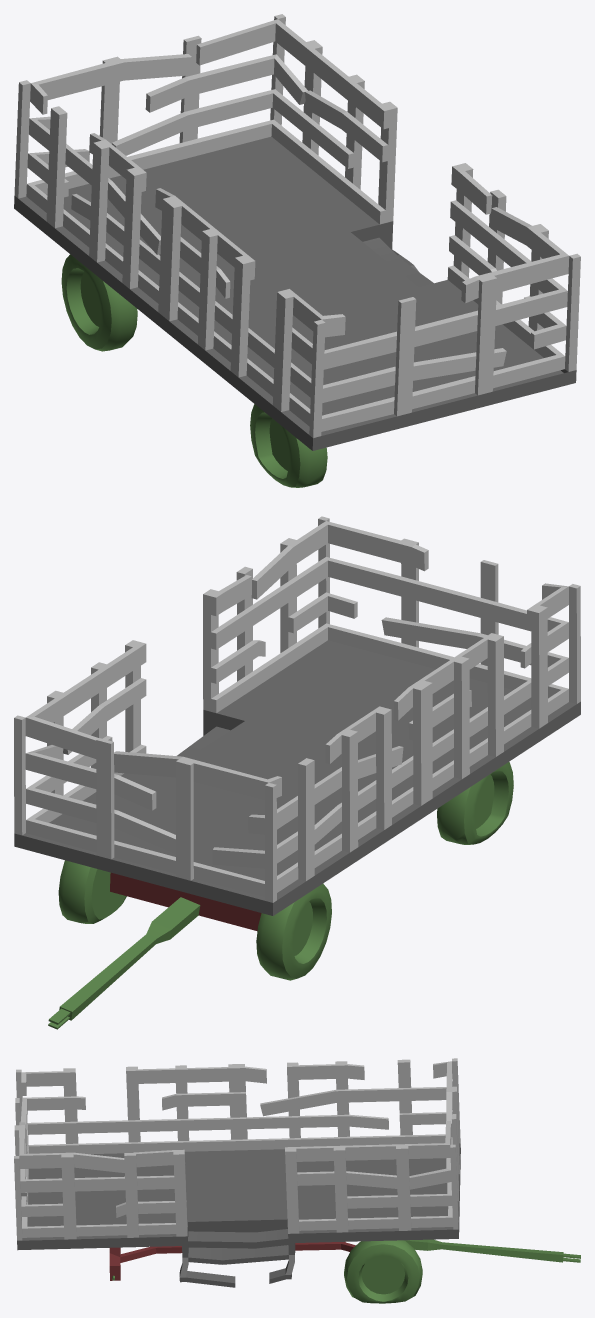
Rendered from Wagon.fbx.
The picture shows the model from 3 angles, top to bottom: view 1: azimuth 30°, elevation 25°; view 2: azimuth 150°, elevation 25°; view 3: azimuth 270°, elevation 25°; orthographic projection. The views are drawn at different scales.
Parts seen in each view (by area): view 1: Slats, Base, Wheel; view 2: Slats, Base, Wheel, Axles; view 3: Slats, Base, Wheel, Axles.
Boxes of the visible parts, x1=… form: Slats: x1=14, y1=14, x2=580, y2=437; Base: x1=14, y1=136, x2=576, y2=450; Wheel: x1=61, y1=254, x2=327, y2=487; Slats: x1=14, y1=516, x2=580, y2=902; Base: x1=14, y1=640, x2=580, y2=915; Wheel: x1=48, y1=762, x2=513, y2=1029; Axles: x1=110, y1=872, x2=261, y2=931; Slats: x1=14, y1=1058, x2=460, y2=1240; Base: x1=17, y1=1143, x2=460, y2=1287; Wheel: x1=112, y1=1239, x2=580, y2=1303; Axles: x1=109, y1=1241, x2=355, y2=1280.
Bounding box in the file's own units: 1.75 × 1.41 × 4.16.
